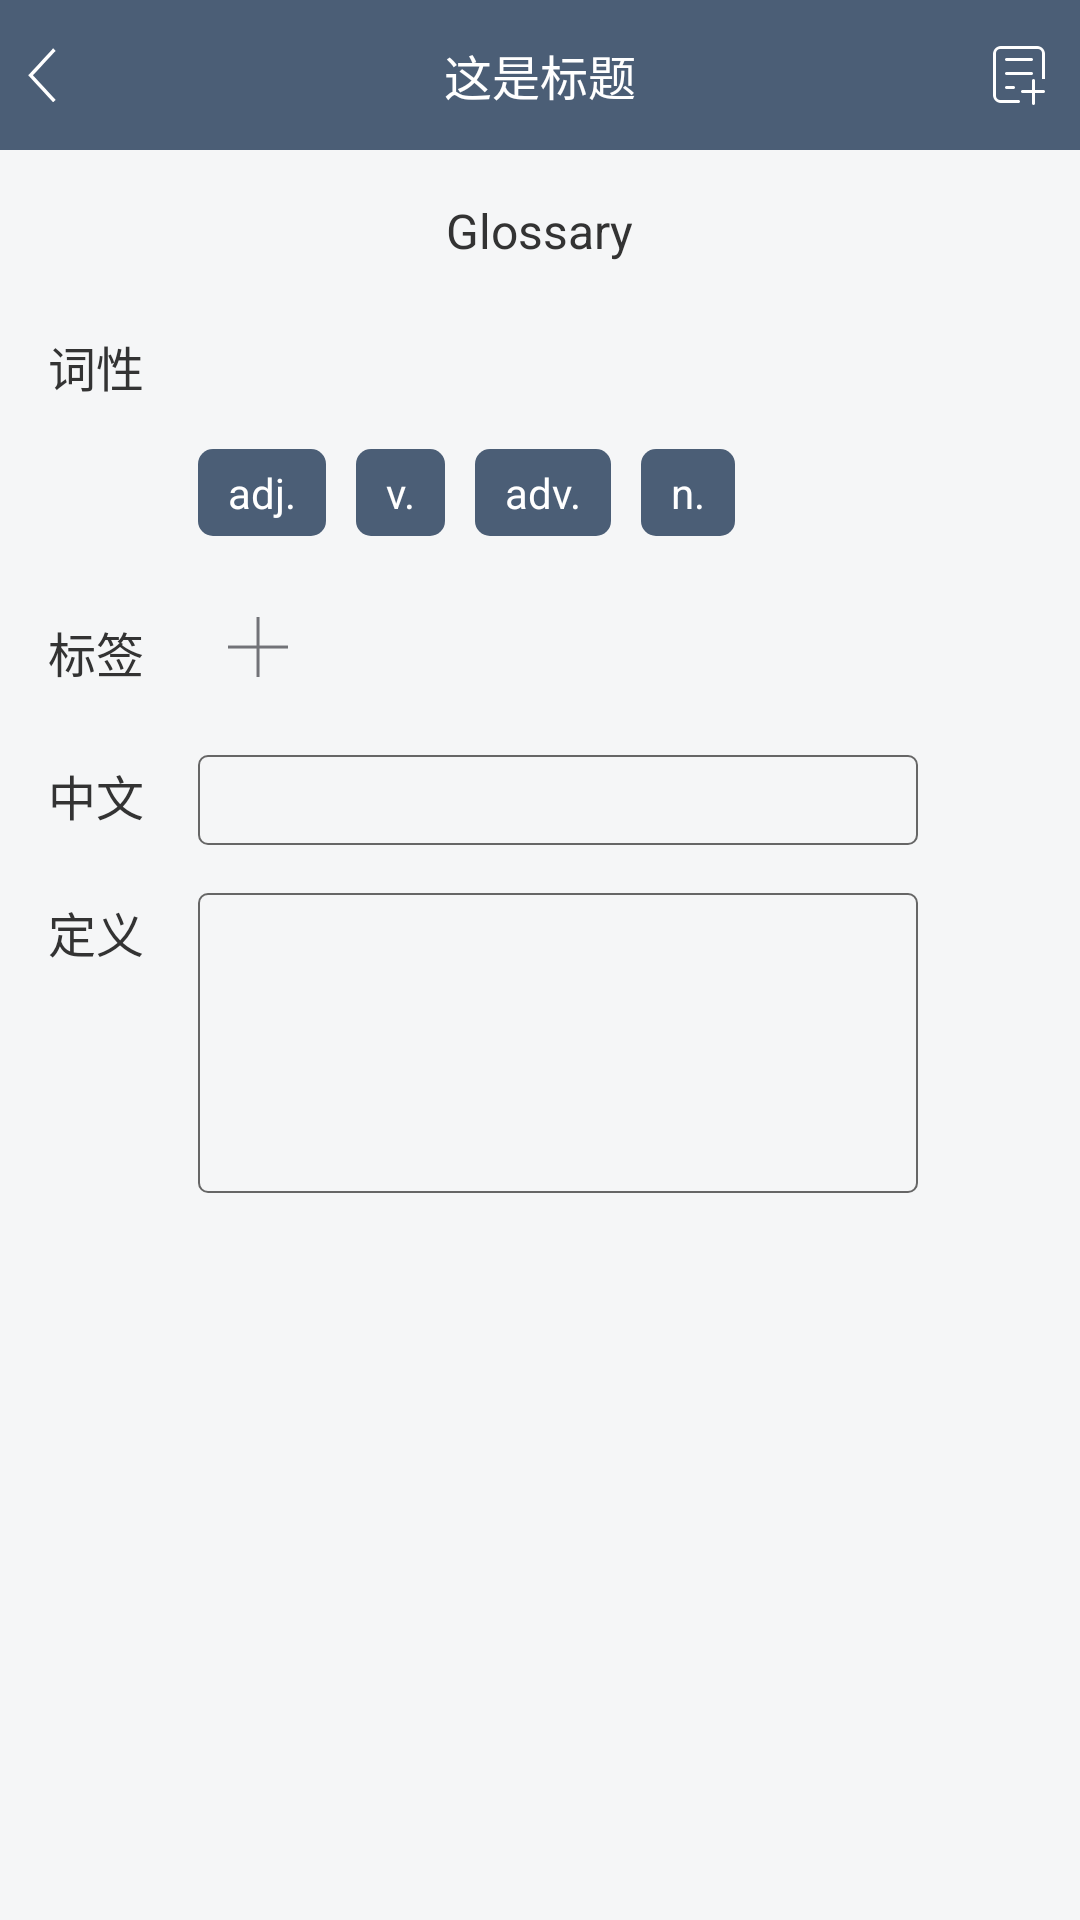

Screen size 1080 × 1920. Icon name, then its box in pixels as region(x1, y1, x2, y2):
back: region(28, 48, 56, 102)
plus: region(228, 617, 288, 677)
